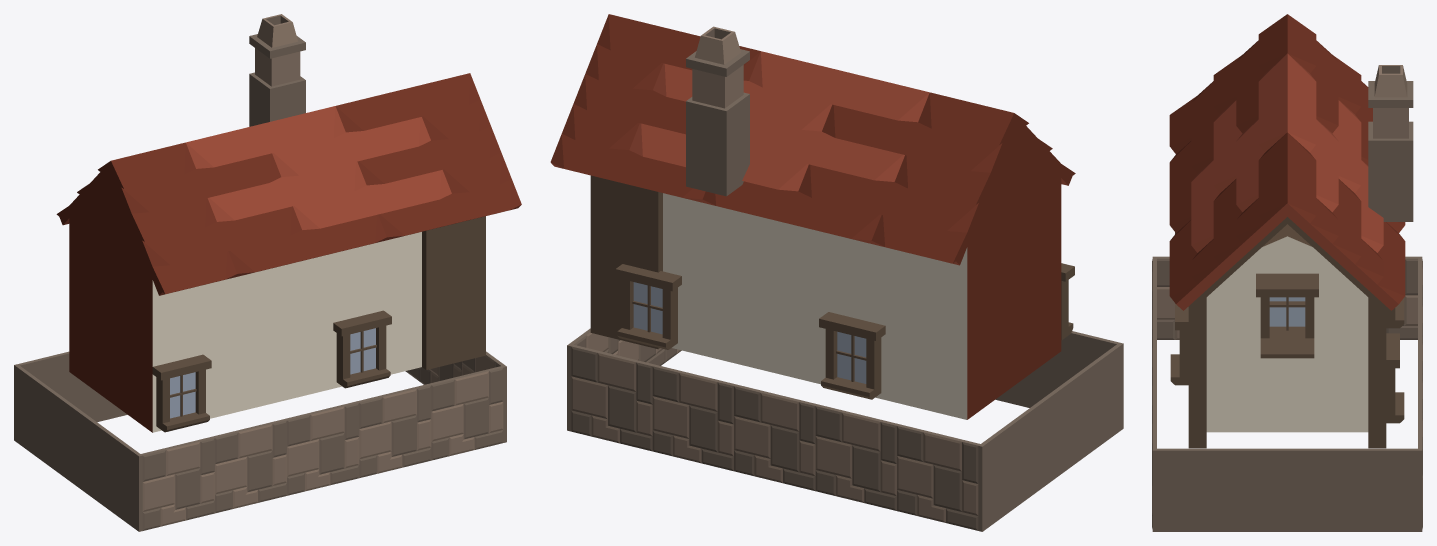
The model's file is village-tavern.obj.
3 renders of one model, left to right at view 1: azimuth 30°, elevation 25°; view 2: azimuth 150°, elevation 25°; view 3: azimuth 270°, elevation 25°, orthographic. The views are drawn at different scales.
Visible parts, largest first — view 1: village-tavern; view 2: village-tavern; view 3: village-tavern.
Part boxes in pixels (x1=…): village-tavern: x1=14, y1=14, x2=521, y2=531; village-tavern: x1=550, y1=14, x2=1123, y2=531; village-tavern: x1=1152, y1=14, x2=1422, y2=531.
Size of the model in its own units: 5.45 by 4.9 by 3.01.
